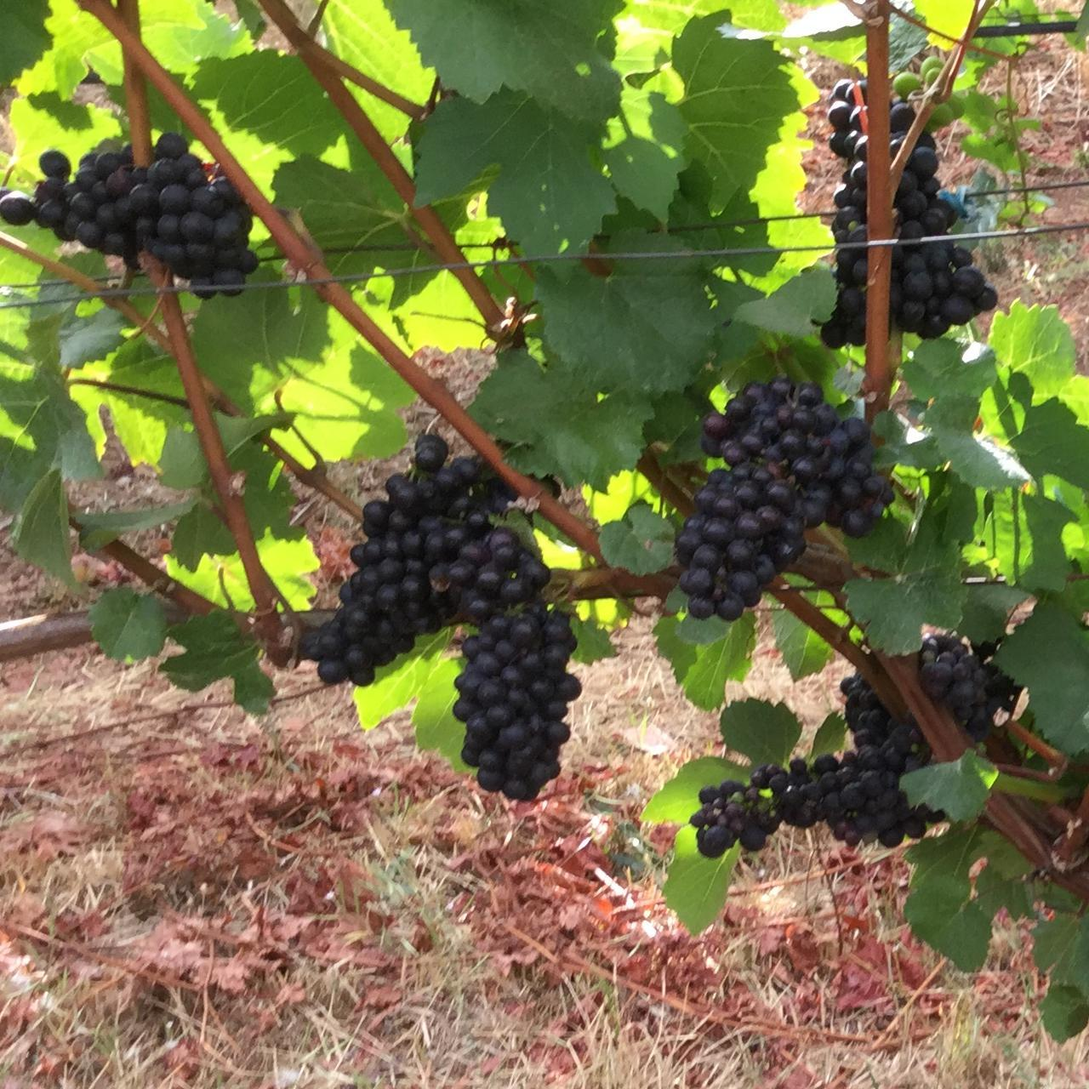Grape Ripe: (666, 641, 1036, 859), (286, 411, 539, 705), (649, 388, 930, 619), (792, 81, 1011, 369), (0, 149, 281, 333), (437, 507, 598, 822)
